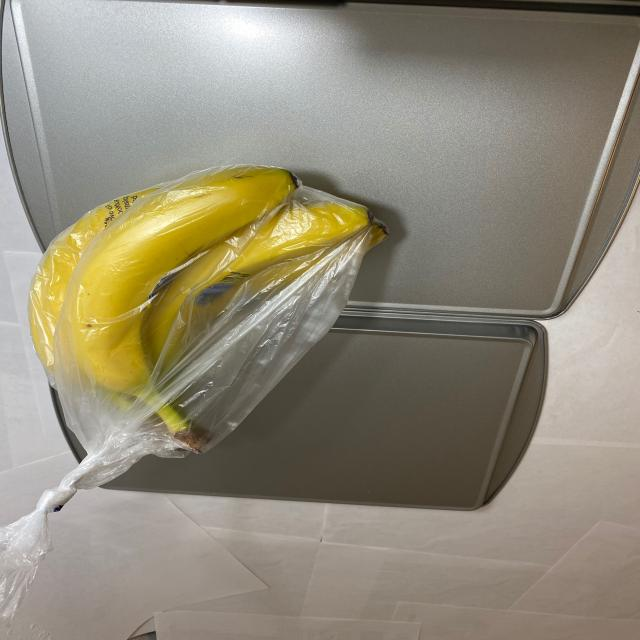banana: (30, 162, 399, 467)
